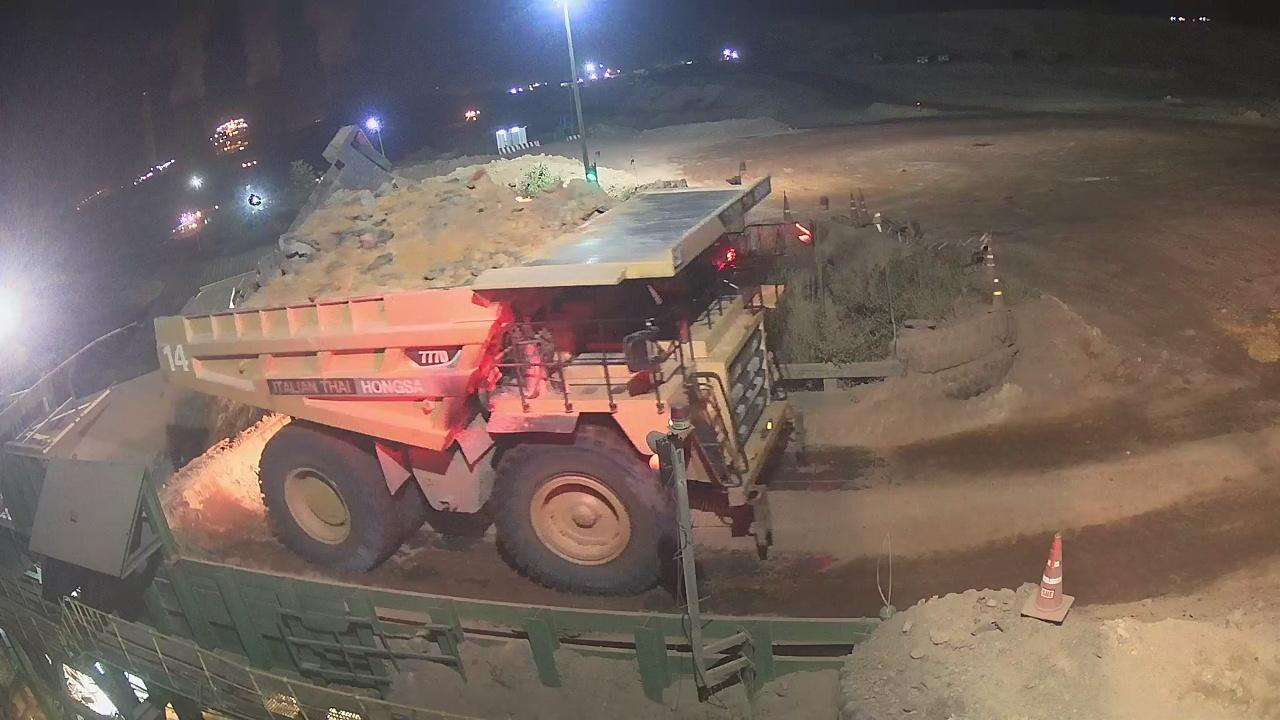company: (267, 369, 463, 408)
front_number: (726, 320, 779, 452)
full_load: (241, 163, 646, 307)
mining_truck: (148, 154, 833, 606)
tail_number: (159, 331, 198, 382)
truck_size: (398, 338, 469, 369)
